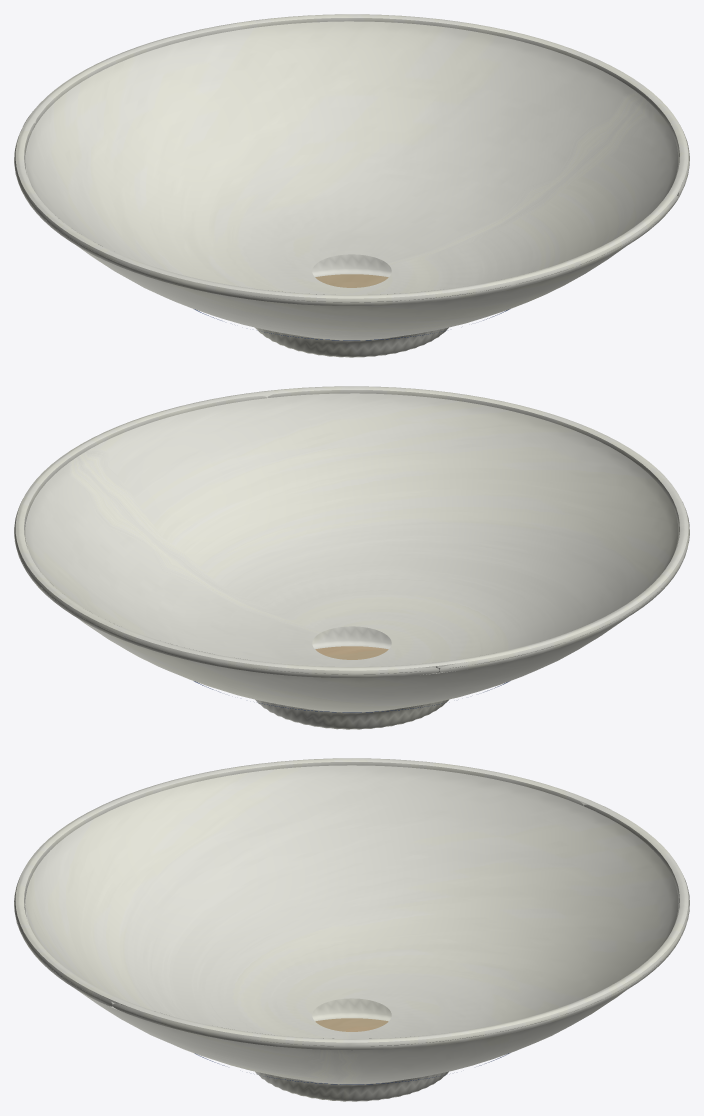
File: PROP_MorningWhite_Bowl_Porcelain.glb
The picture shows the model from 3 angles, top to bottom: view 1: azimuth 30°, elevation 25°; view 2: azimuth 150°, elevation 25°; view 3: azimuth 270°, elevation 25°; orthographic projection.
Parts seen in each view (by area): view 1: PROP_MorningWhite_Bowl_Porcelain; view 2: PROP_MorningWhite_Bowl_Porcelain; view 3: PROP_MorningWhite_Bowl_Porcelain.
Part boxes in pixels (x1,y1,x2,y2): PROP_MorningWhite_Bowl_Porcelain: [14, 14, 689, 357]; PROP_MorningWhite_Bowl_Porcelain: [14, 386, 689, 729]; PROP_MorningWhite_Bowl_Porcelain: [14, 758, 689, 1101].
Bounding box in the file's own units: 0.766 × 0.2 × 0.766.
3 materials, 3 textured.
